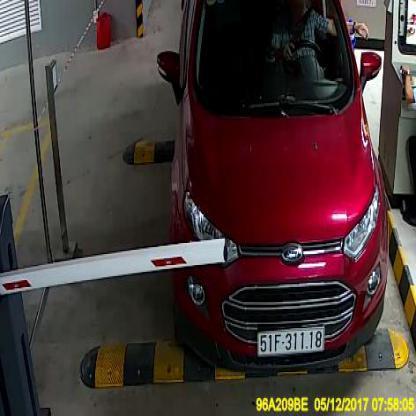biensoxe: (258, 328, 324, 354)
